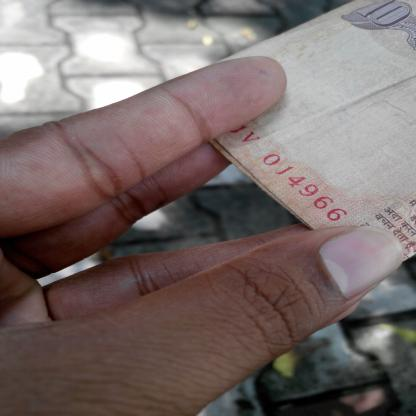Old10Front: (208, 0, 415, 268)
